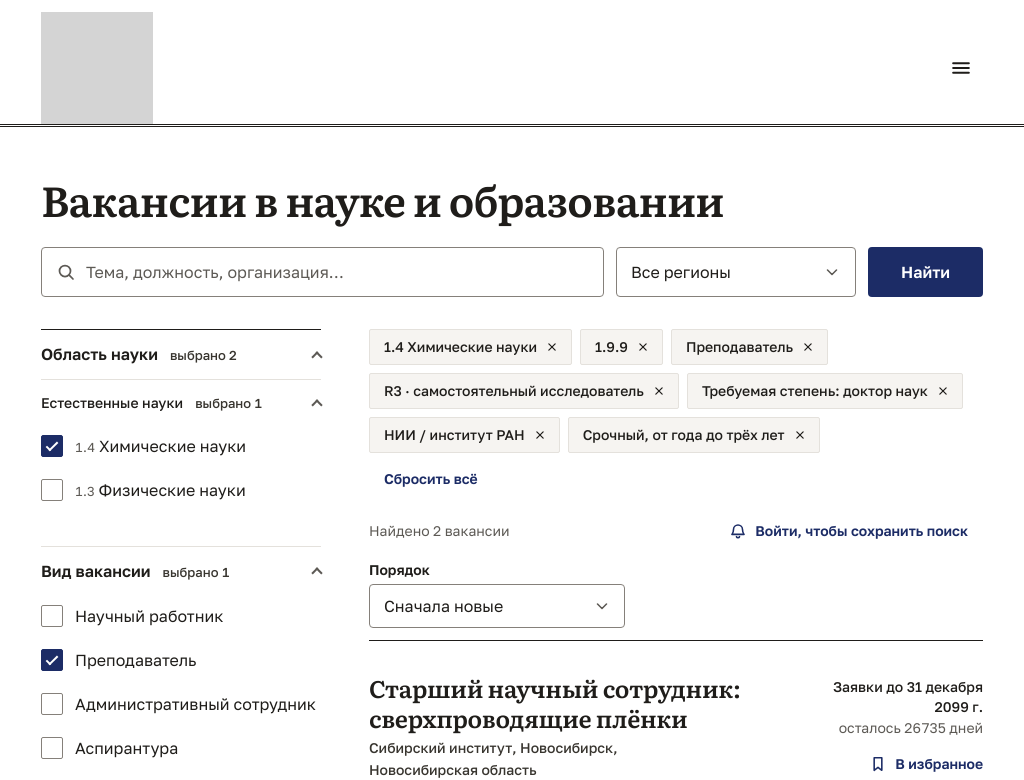
search page › shows region and science names on the tags once the reference books arrive
This screenshot has width=1024, height=780.
Check: the text "1.4 Химические науки" is shown, box [384,336,537,358]
Check: the text "1.9.9" is shown, box [595,336,628,358]
Click the button with aria-label "Убрать фильтр: 1.4 Химические науки" at (471, 347), box [369,329,572,365]
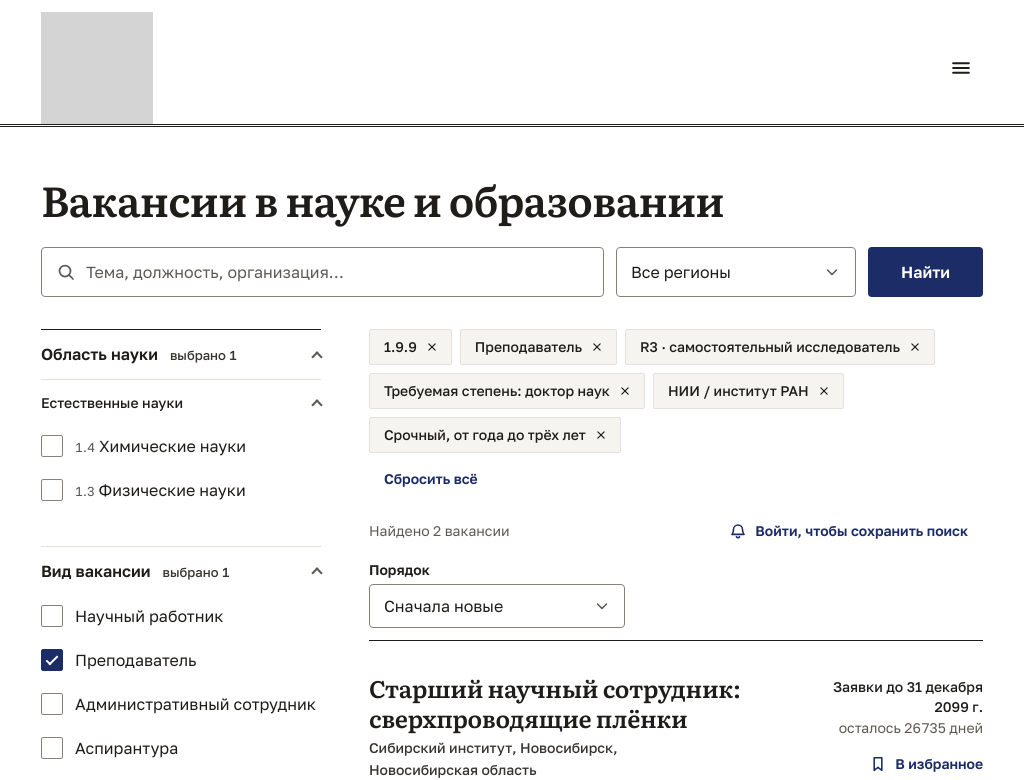
Check: the checkbox labelled "1.4 Химические науки" is not checked, box [41,435,63,457]
